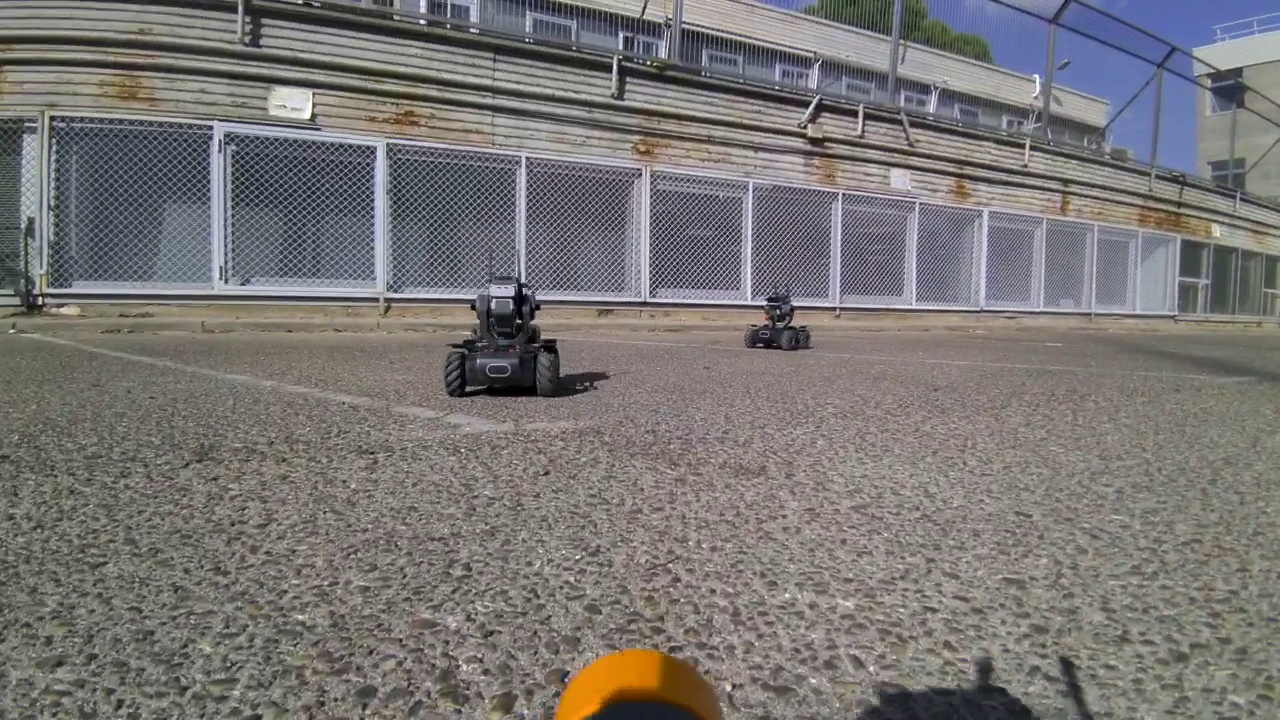robot: (441, 264, 570, 401), (743, 283, 809, 350)
